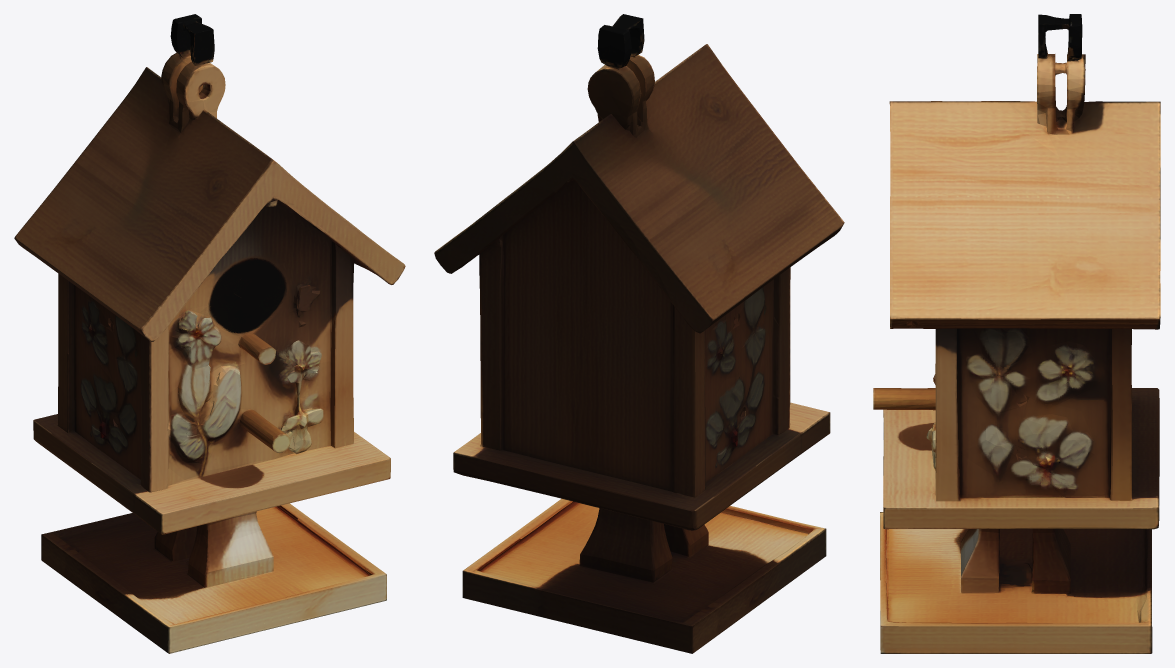
Rendered from wooden-birdhouse-3d.jpeg.glb.
The picture shows the model from 3 angles, left to right: view 1: azimuth 30°, elevation 25°; view 2: azimuth 150°, elevation 25°; view 3: azimuth 270°, elevation 25°; orthographic projection. The views are drawn at different scales.
Visible parts, largest first — view 1: world; view 2: world; view 3: world.
Boxes of the visible parts, <box> form: world: <box>14,14,405,653</box>; world: <box>434,14,844,653</box>; world: <box>873,14,1160,653</box>.
Size of the model in its own units: 0.5126 by 1 by 0.4512.
Materials: 1 (1 with a texture image).
